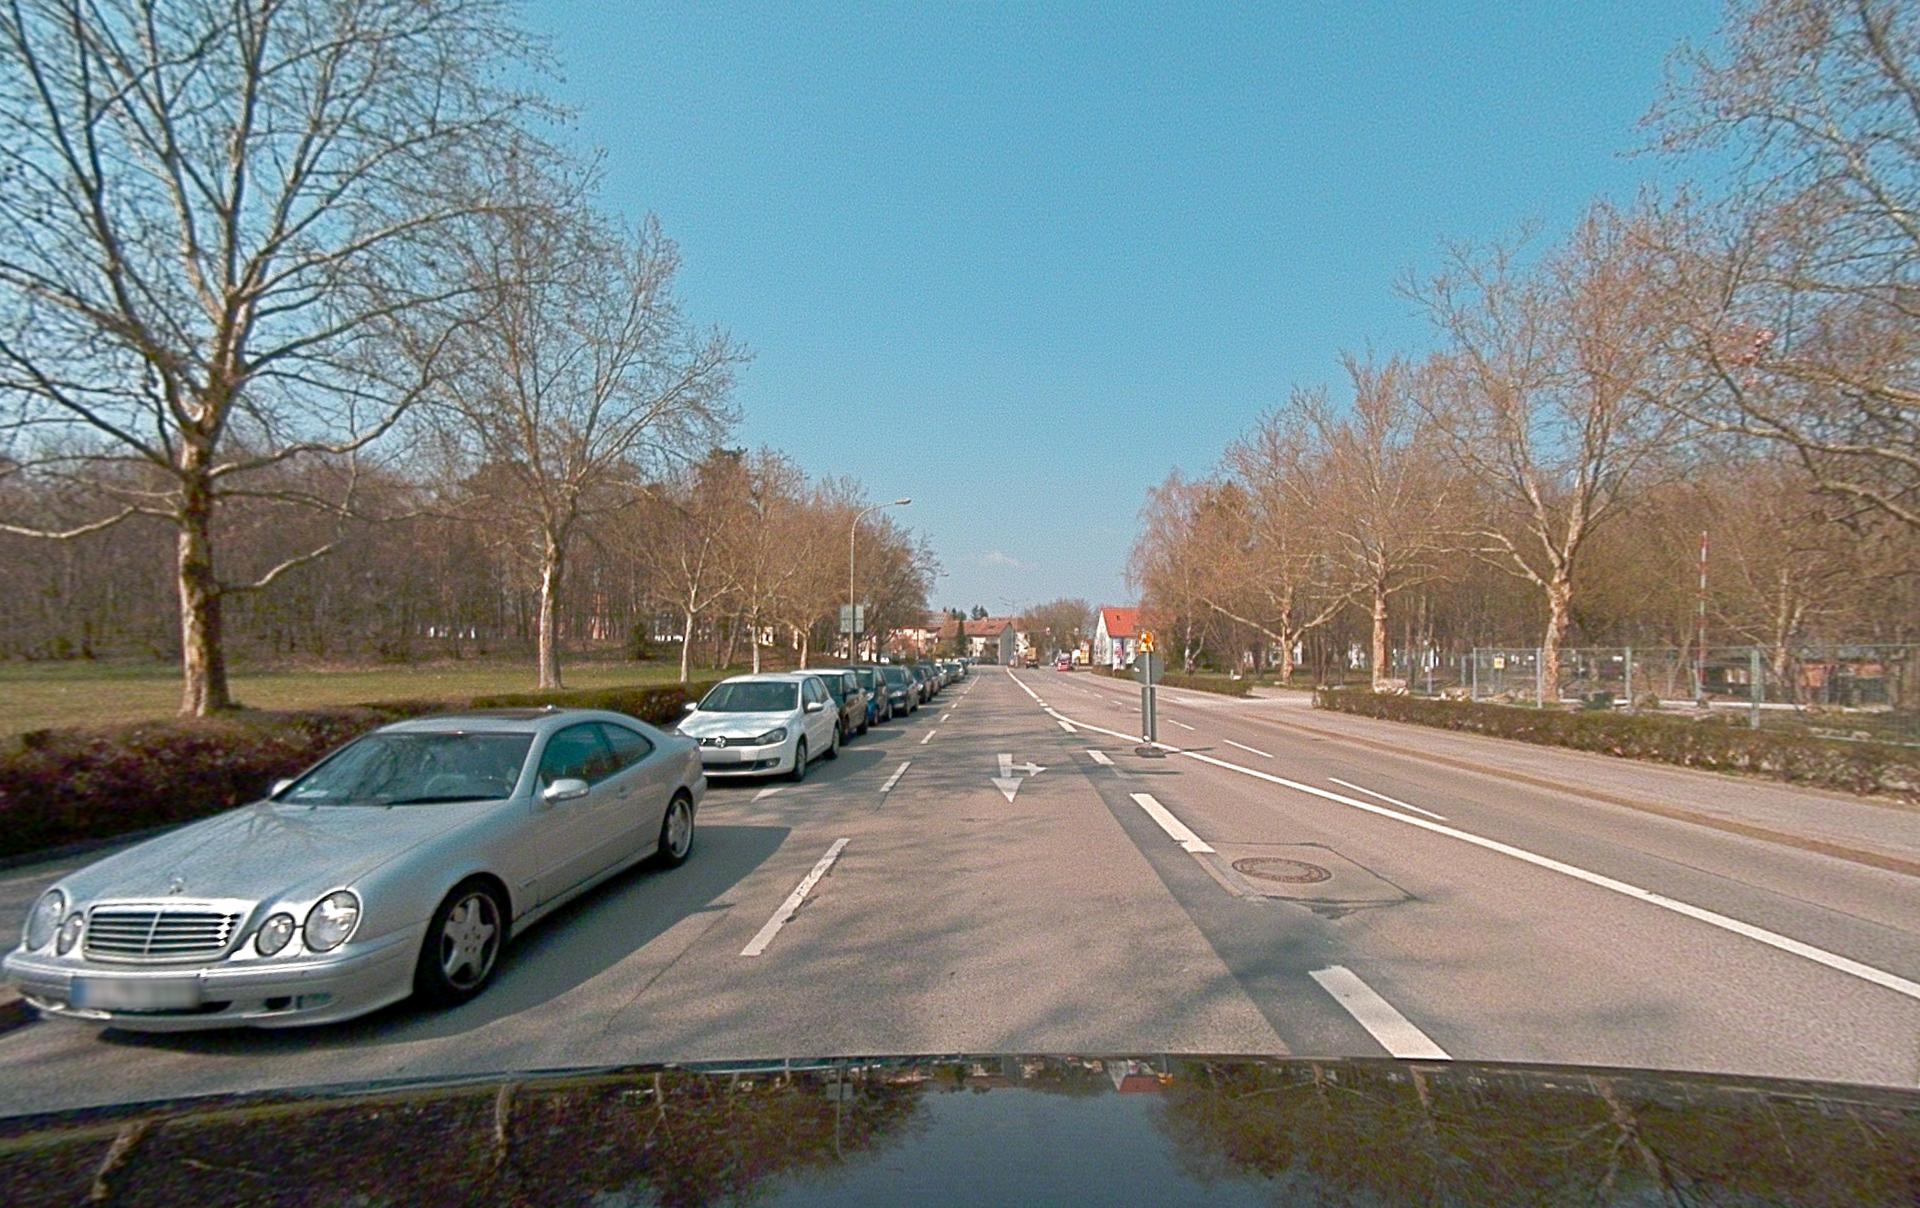car: (2, 704, 707, 1034), (674, 671, 840, 783), (792, 669, 870, 743), (800, 669, 871, 743), (847, 666, 892, 725), (878, 665, 920, 715)
